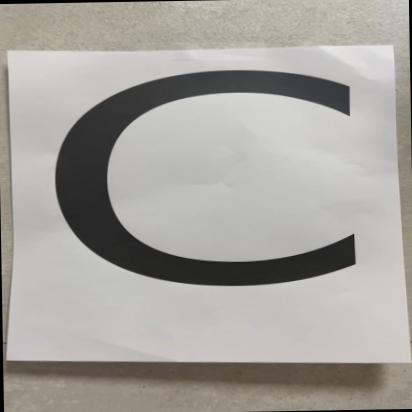seat: (17, 47, 412, 362)
